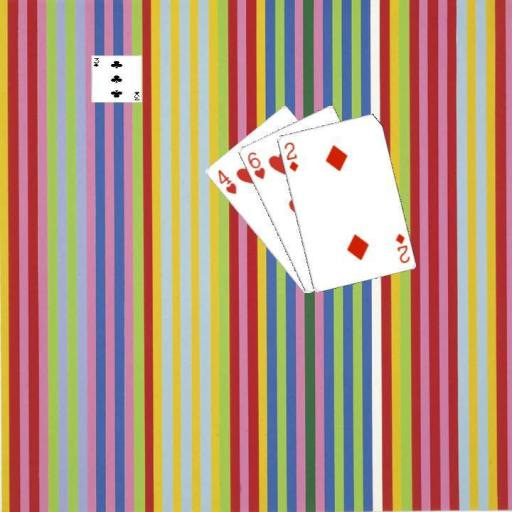card-corner: (244, 148, 267, 180), (214, 166, 238, 196), (392, 230, 411, 264), (281, 138, 299, 172)
